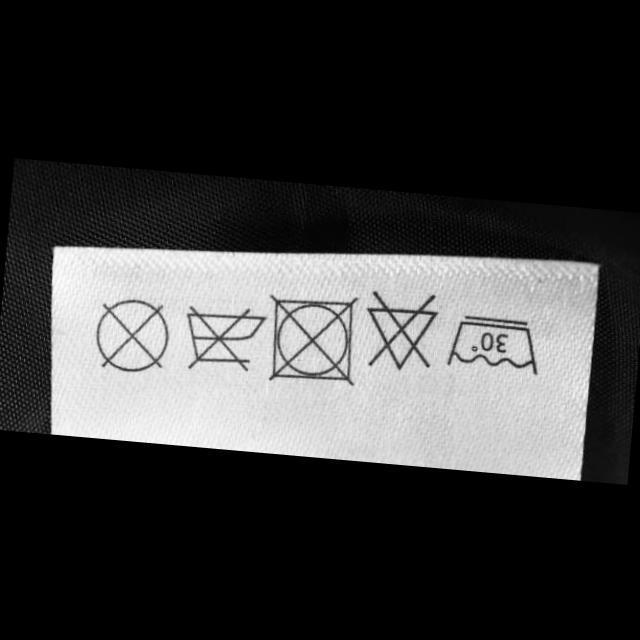30C: (441, 307, 546, 379)
DN_bleach: (358, 288, 441, 374)
DN_dry_clean: (88, 290, 174, 376)
DN_iron: (176, 298, 268, 376)
DN_tumble_dry: (258, 286, 364, 390)
